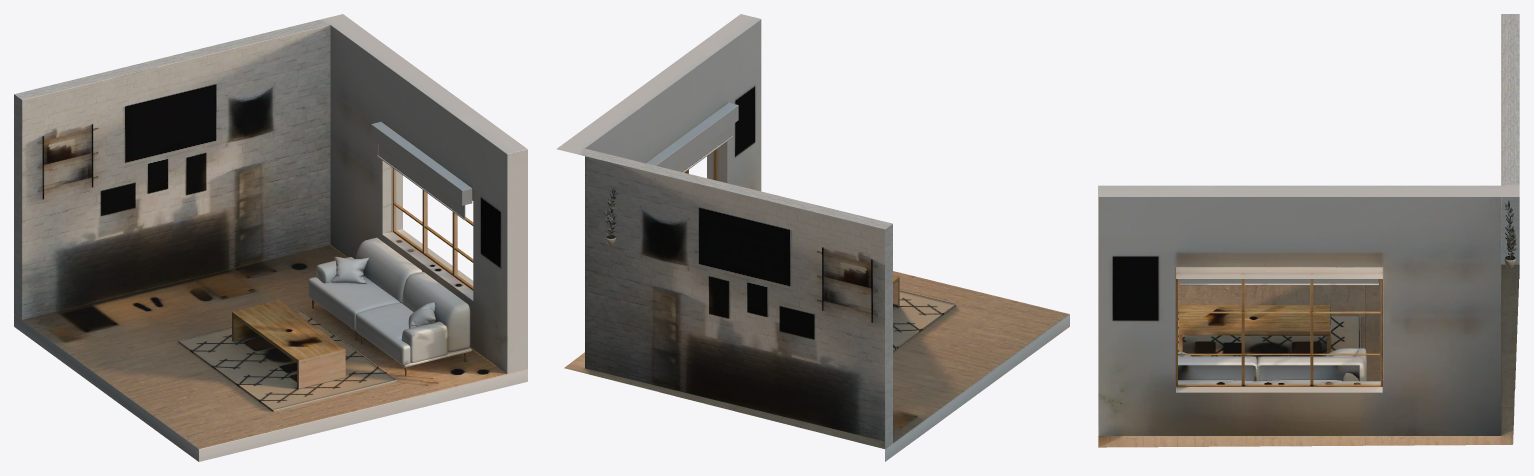
File: Light_Third.glb
The picture shows the model from 3 angles, left to right: view 1: azimuth 30°, elevation 25°; view 2: azimuth 150°, elevation 25°; view 3: azimuth 270°, elevation 25°; orthographic projection. The views are drawn at different scales.
Parts seen in each view (by area): view 1: Light_Third_Baked; view 2: Light_Third_Baked; view 3: Light_Third_Baked.
Part boxes in pixels (box(x1,y1,x2,y2)): Light_Third_Baked: box(14, 14, 527, 461); Light_Third_Baked: box(556, 14, 1069, 461); Light_Third_Baked: box(1098, 14, 1519, 447).
Size of the model in its own units: 3.99 by 2.69 by 3.88.
Materials: 1 (1 with a texture image).
